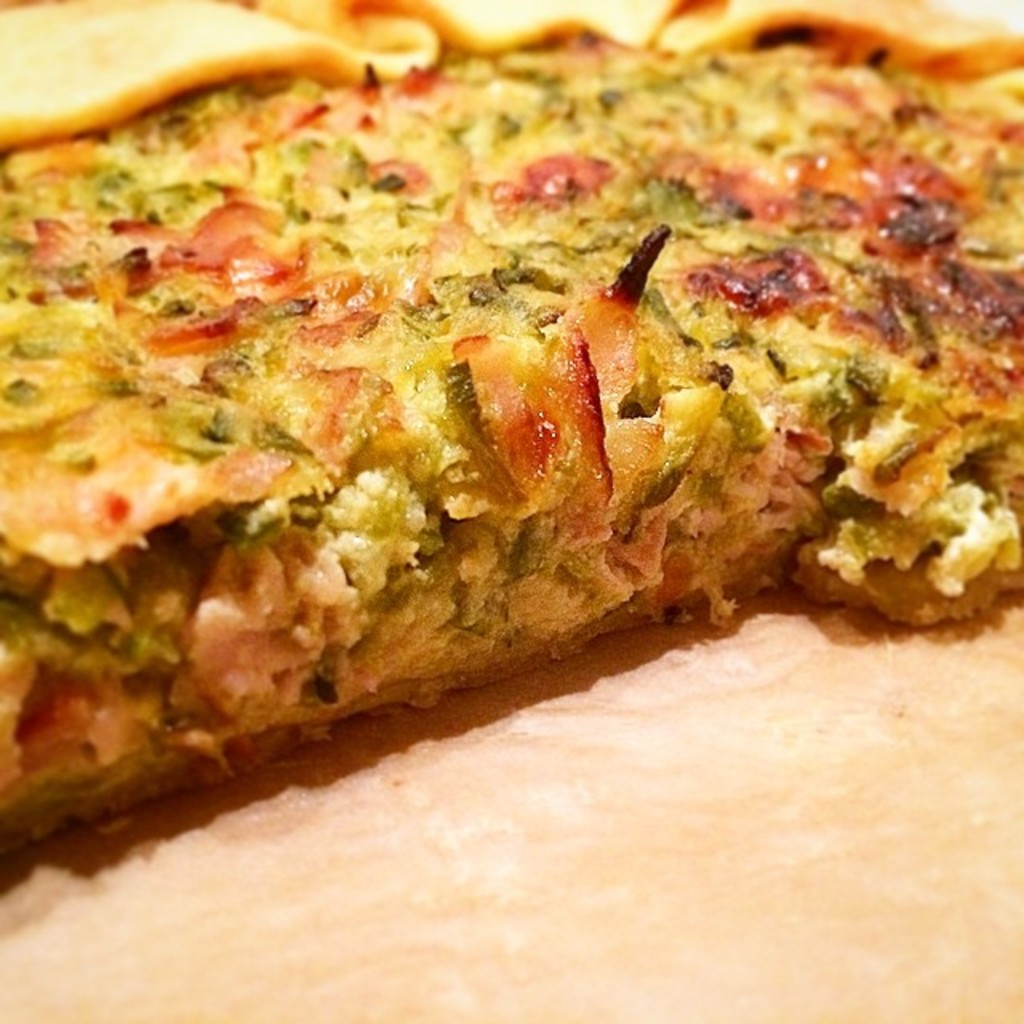Pizza: (0, 46, 1008, 839)
